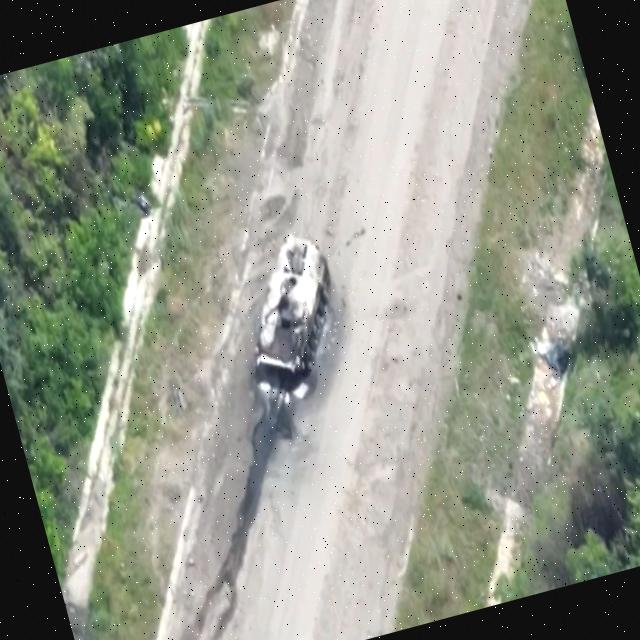Destroyed: (220, 205, 357, 394)
